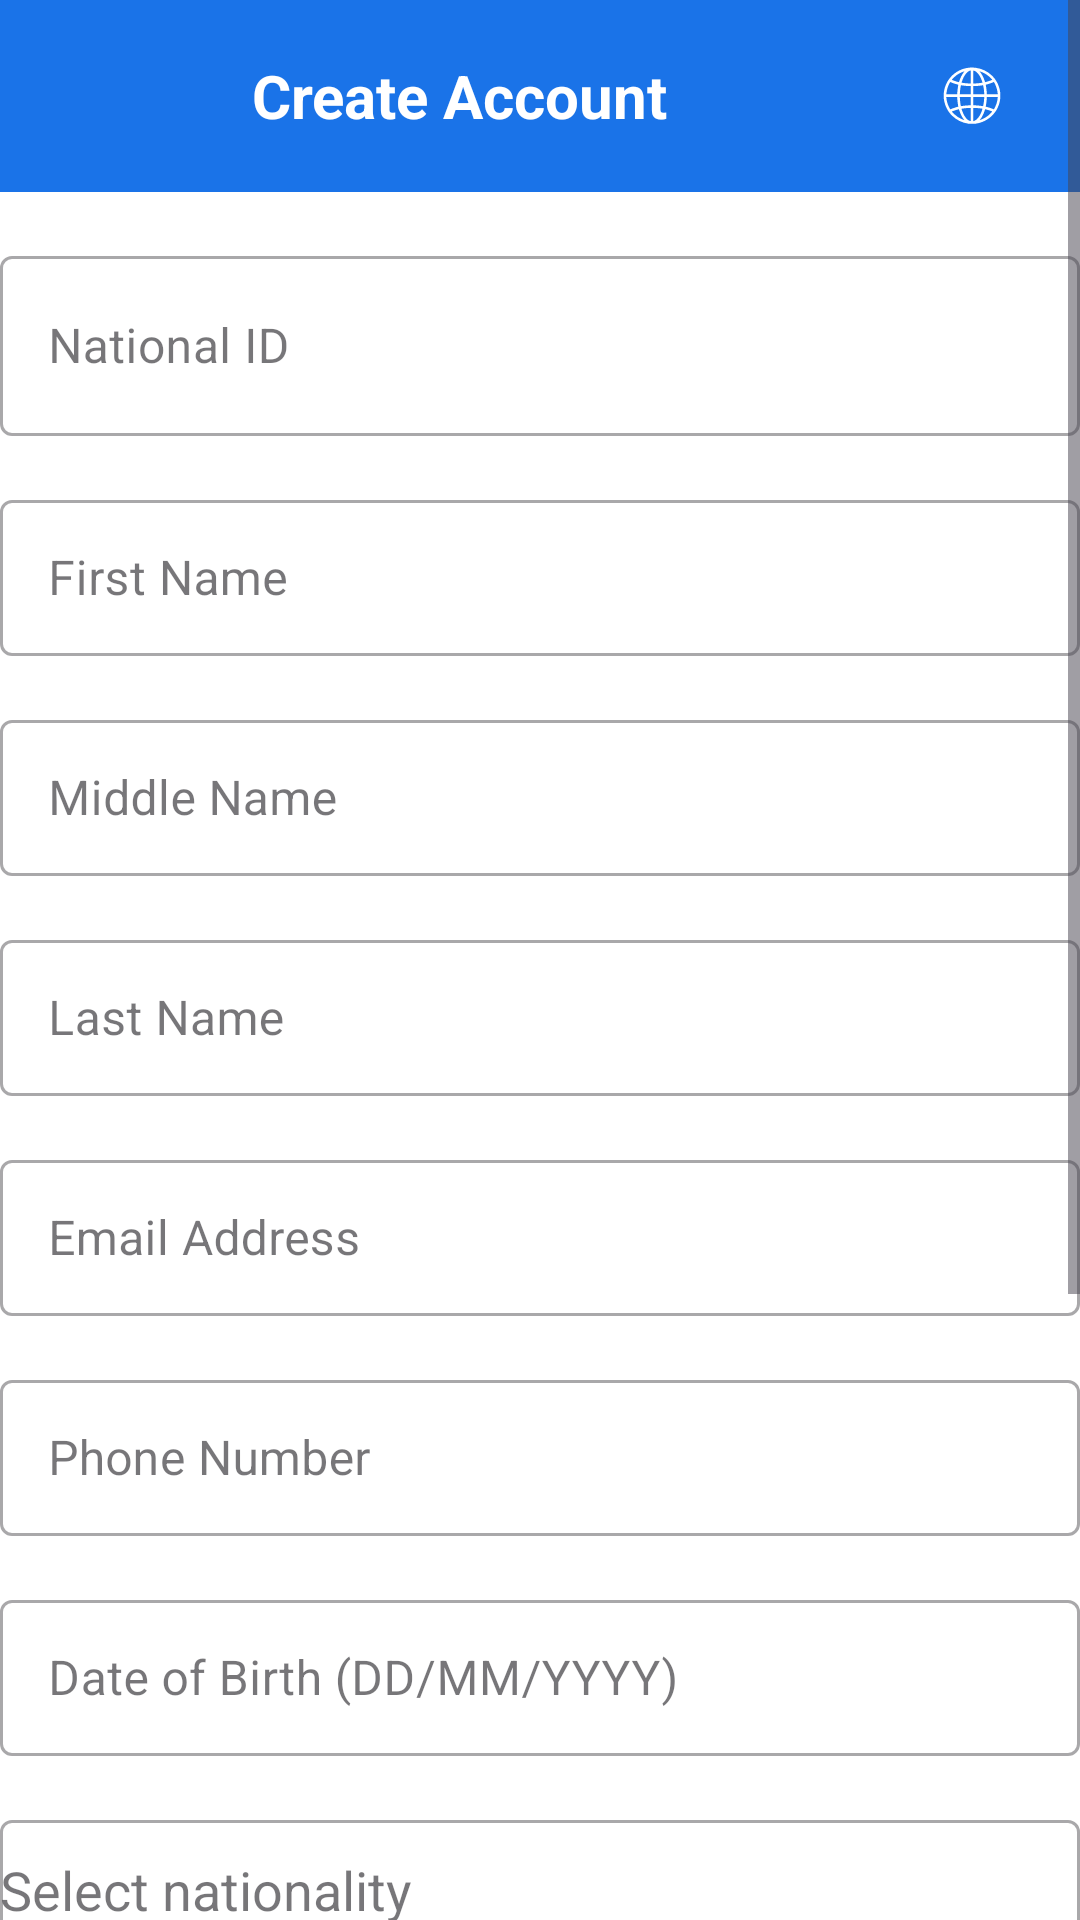

Screen size 1080×1920. Icon name, then its box in pixels as (x1, y1, x2, y2):
Change Language: (943, 67, 1001, 124)
